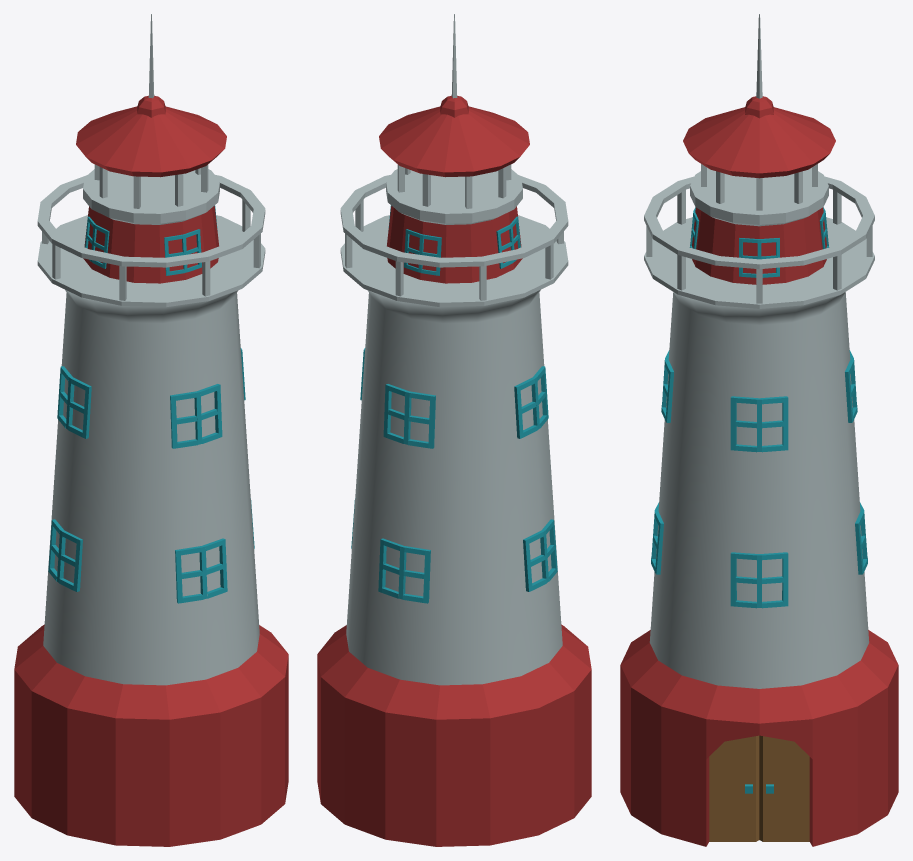
Rendered from Lighthouse.fbx.
3 views of the same model, side by side, from view 1: azimuth 30°, elevation 25°; view 2: azimuth 150°, elevation 25°; view 3: azimuth 270°, elevation 25° (orthographic).
Parts seen in each view (by area): view 1: LightHouse; view 2: LightHouse; view 3: LightHouse.
Part boxes in pixels (<box>): LightHouse: <box>14,14,288,846</box>; LightHouse: <box>317,14,591,846</box>; LightHouse: <box>620,14,898,846</box>.
Size of the model in its own units: 134 by 413 by 134.
